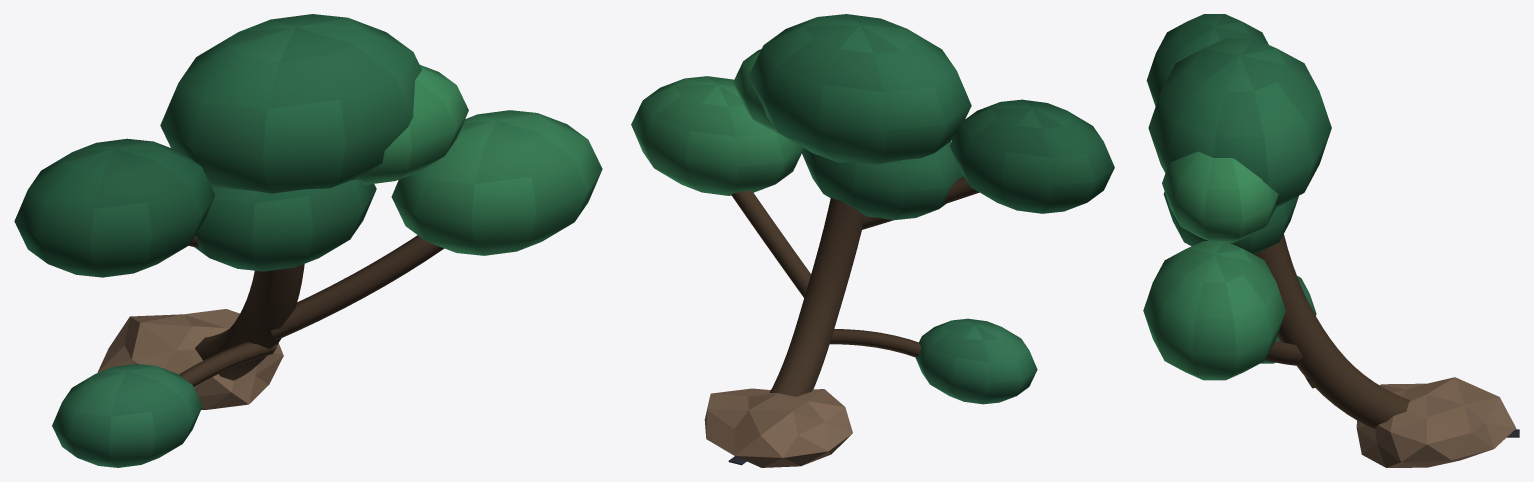
The model's file is fauna.glb.
3 renders of one model, left to right at view 1: azimuth 30°, elevation 25°; view 2: azimuth 150°, elevation 25°; view 3: azimuth 270°, elevation 25°, orthographic. The views are drawn at different scales.
Parts seen in each view (by area): view 1: cliff_tree; view 2: cliff_tree; view 3: cliff_tree.
Part boxes in pixels (left/top/right/bottom): cliff_tree: left=14, top=14, right=602, bottom=467; cliff_tree: left=631, top=14, right=1114, bottom=467; cliff_tree: left=1143, top=14, right=1516, bottom=467.
Size of the model in its own units: 6.94 by 5.2 by 4.43.
